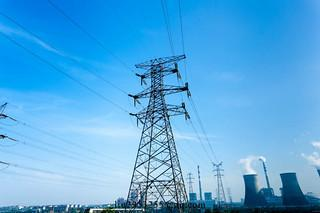power_tower: (127, 52, 196, 212), (210, 158, 234, 207)
